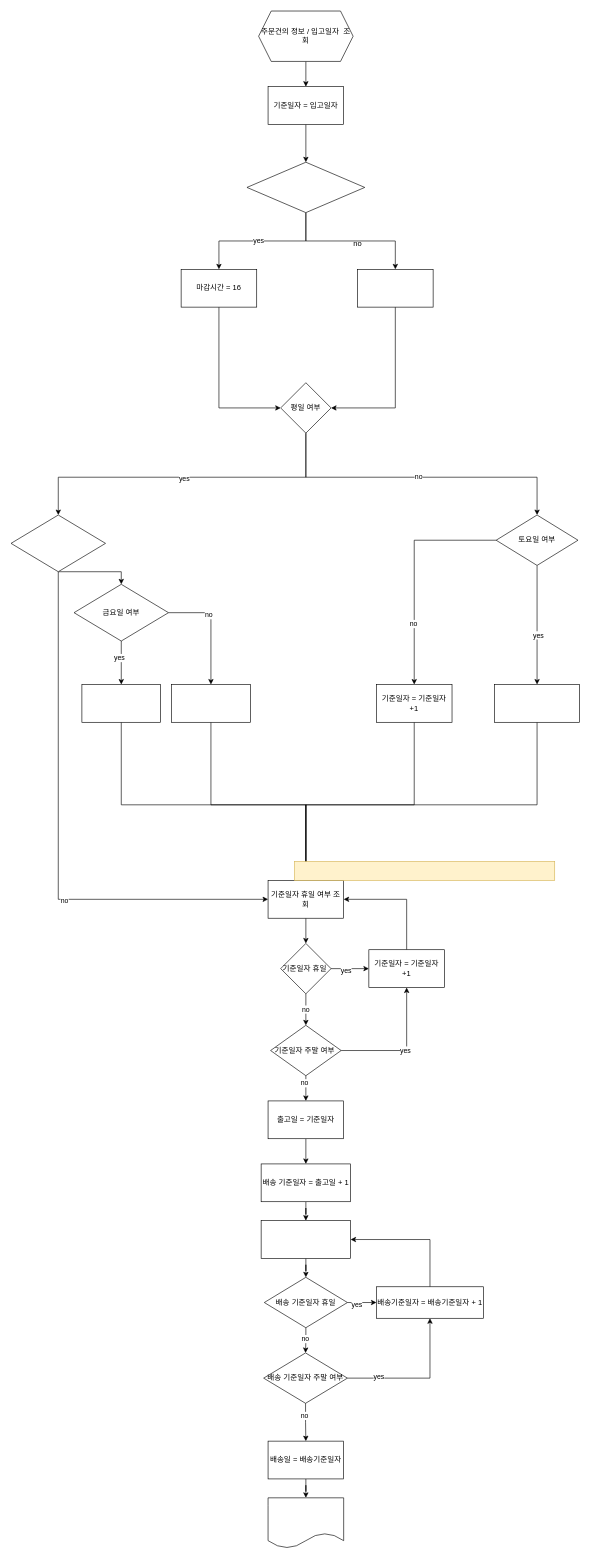
Image size: 591x1559. Some labels were removed from this diagram. The centre of each missing label's shape, as x and y in pixels:
기준시간 >= 미감시간 (입고시간 >= 마감시간): pixel 58 543
기준일자 = 기준일자 + 1: pixel 210 703
기준일자 = 기준일자 + 2: pixel 537 703
기준일자 = 기준일자 + 3: pixel 121 703
대량주문 이며 배차 요청 여부: pixel 305 187
마감시간 = 13: pixel 395 288
배송기준일자 휴일 여부 조회: pixel 306 1239
출고일 / 배송일 out: pixel 305 1522
휴일 데이터는 하드코딩 되어있는 리스트 조회로 처리됨 추후 데이터 베이스에서 공휴일 정보만 조회하여 처리하는 방향으로 접근: pixel 424 870
